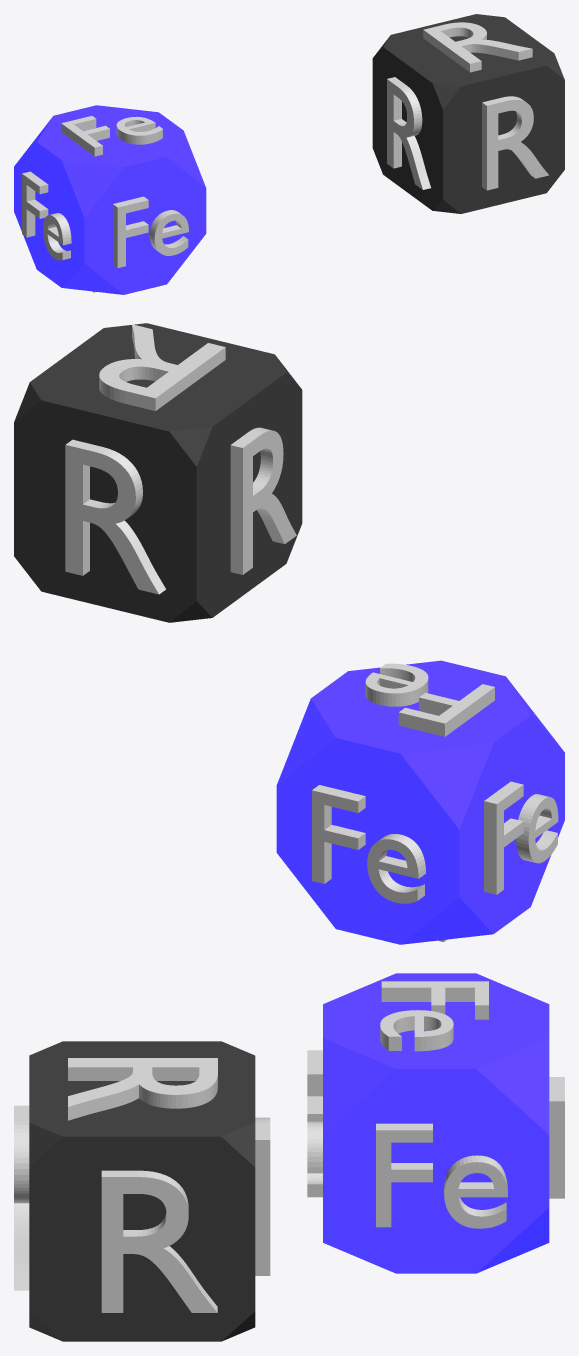
Rendered from Res.fbx.
3 renders of one model, top to bottom at view 1: azimuth 30°, elevation 25°; view 2: azimuth 150°, elevation 25°; view 3: azimuth 270°, elevation 25°, orthographic. The views are drawn at different scales.
Parts seen in each view (by area): view 1: Cube, Metal; view 2: Cube, Metal; view 3: Cube, Metal.
Boxes of the visible parts, box(x1,y1,x2,y2) form: Cube: box(372, 14, 564, 213); Metal: box(14, 105, 206, 294); Cube: box(14, 323, 302, 622); Metal: box(276, 660, 564, 944); Cube: box(14, 1041, 270, 1341); Metal: box(307, 973, 564, 1273).
Size of the model in its own units: 1.66 by 0.9129 by 1.22.
